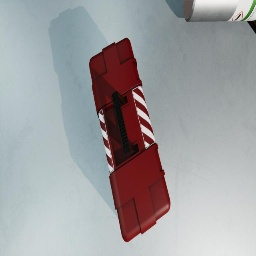0: (183, 0, 256, 22)
FirstAidBox ,: (89, 38, 170, 242)
